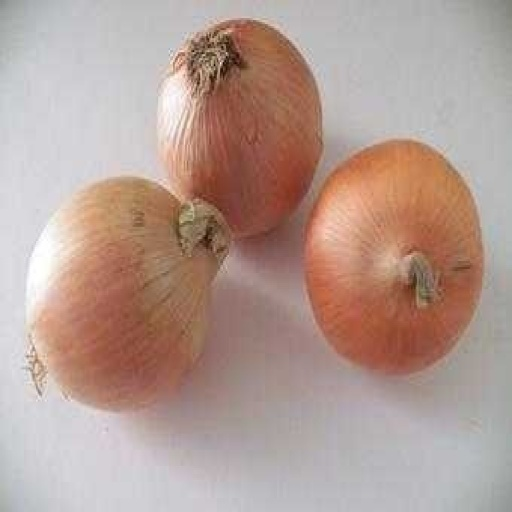Zwiebel: (22, 175, 229, 411), (303, 140, 484, 375), (156, 17, 323, 239)
